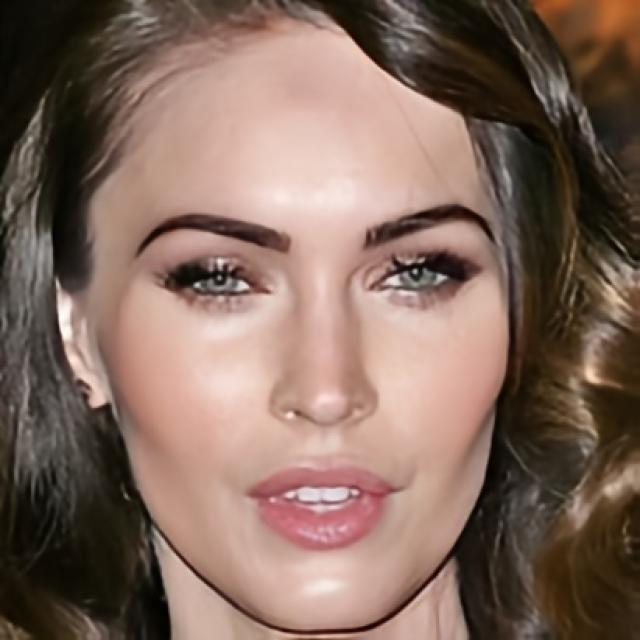neutral: (98, 0, 513, 632)
